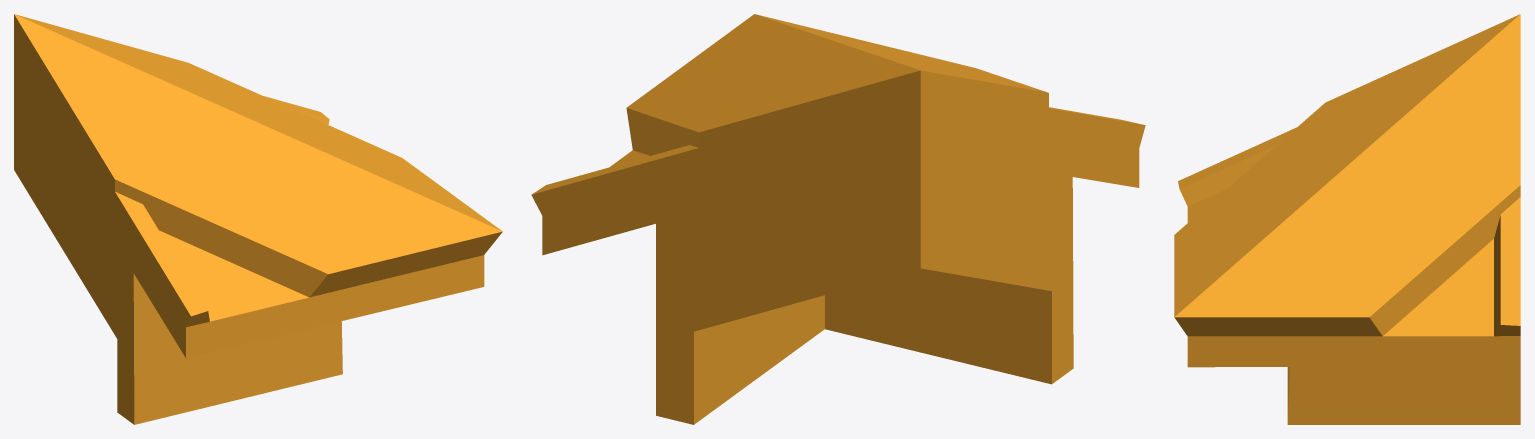
File: SM_Roof_Metal_Moderate_Edge_Corner_A.fbx
3 views of the same model, side by side, from view 1: azimuth 30°, elevation 25°; view 2: azimuth 150°, elevation 25°; view 3: azimuth 270°, elevation 25° (orthographic). The views are drawn at different scales.
Visible parts, largest first — view 1: roof-metal-moderate-edge-corner-a; view 2: roof-metal-moderate-edge-corner-a; view 3: roof-metal-moderate-edge-corner-a.
Boxes of the visible parts, x1=… form: roof-metal-moderate-edge-corner-a: x1=14, y1=14, x2=502, y2=424; roof-metal-moderate-edge-corner-a: x1=531, y1=14, x2=1145, y2=424; roof-metal-moderate-edge-corner-a: x1=1174, y1=14, x2=1520, y2=424.
Size of the model in its own units: 0.52 by 0.5178 by 0.52.
